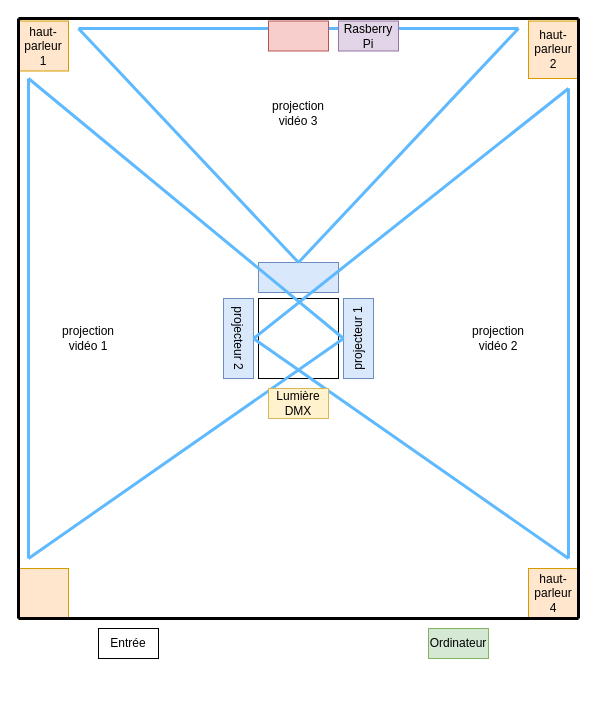
Image size: 598x704. Some labels were removed from this diagram. Each missing label, with the centre of its shape:
haut-parleur 3: (x=43, y=593)
Kinect: (x=298, y=35)
Podium avec tablette: (x=298, y=338)
projecteur 3: (x=298, y=277)
